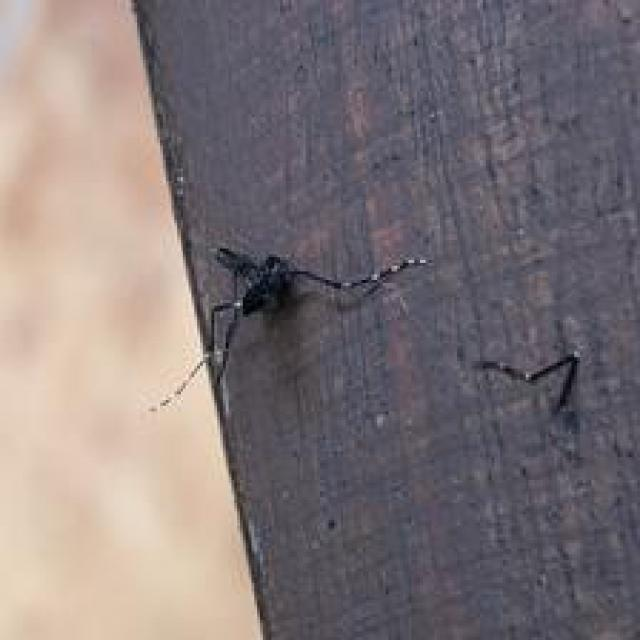Aedes albopictus: (148, 243, 432, 414)
